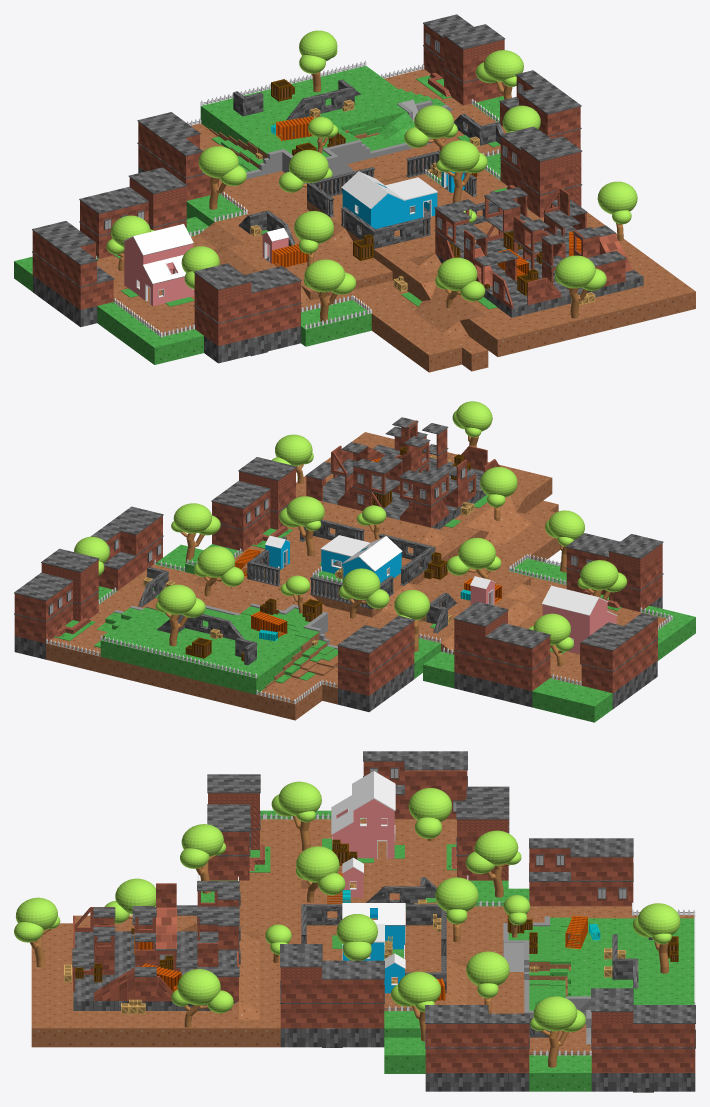
3 renders of one model, top to bottom at view 1: azimuth 30°, elevation 25°; view 2: azimuth 150°, elevation 25°; view 3: azimuth 270°, elevation 25°, orthographic. The views are drawn at different scales.
Size of what is drawn, in the model's own units: 64.15 by 12.1 by 65.77.
23 materials, 6 textured.
